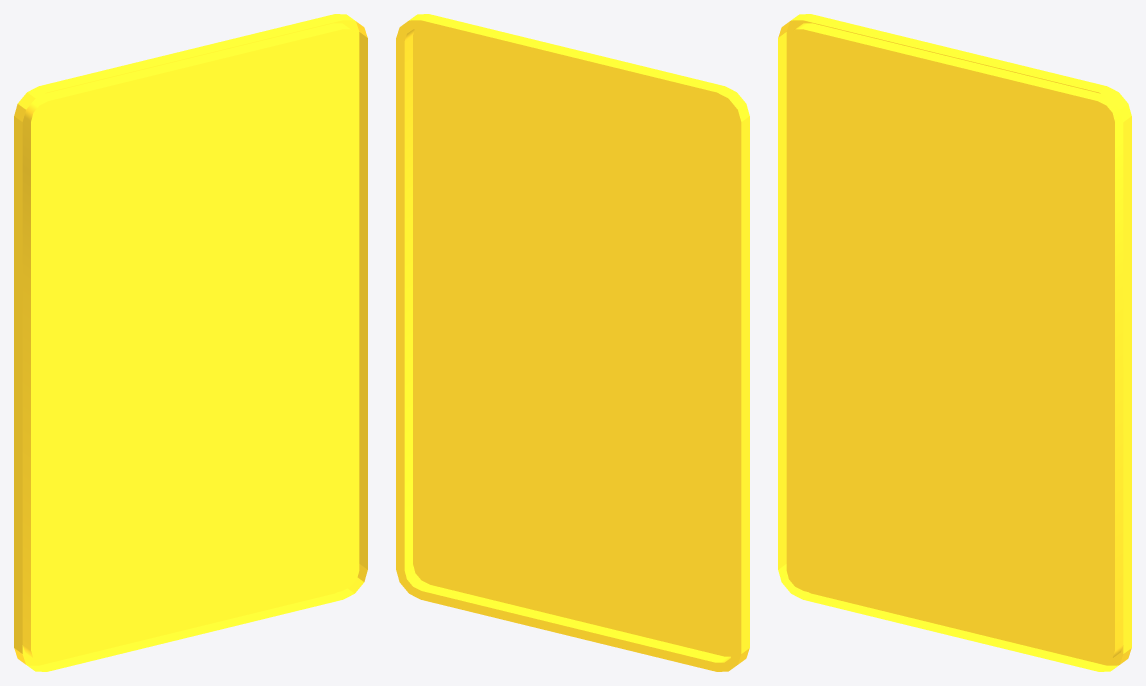
The model's file is highlight_frame.glb.
3 views of the same model, side by side, from view 1: azimuth 30°, elevation 25°; view 2: azimuth 150°, elevation 25°; view 3: azimuth 330°, elevation 25° (orthographic).
Parts seen in each view (by area): view 1: title_plane.001; view 2: title_plane.001; view 3: title_plane.001.
Boxes of the visible parts, x1,y1,x2,y2 form: title_plane.001: [14, 14, 367, 671]; title_plane.001: [396, 14, 749, 671]; title_plane.001: [778, 14, 1131, 671].
Bounding box in the file's own units: 1.1 × 1.77 × 0.0469.
